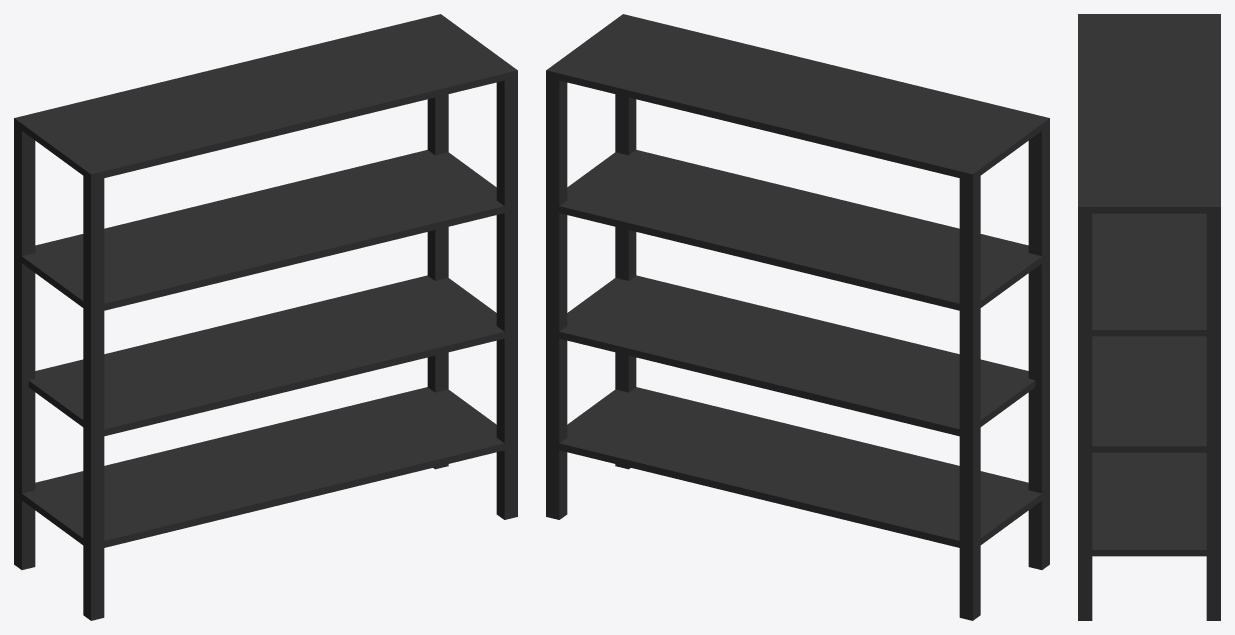
File: Shelves.fbx
3 views of the same model, side by side, from view 1: azimuth 30°, elevation 25°; view 2: azimuth 150°, elevation 25°; view 3: azimuth 270°, elevation 25° (orthographic). The views are drawn at different scales.
Visible parts, largest first — view 1: Matrix; view 2: Matrix; view 3: Matrix.
Part boxes in pixels (box(x1,y1,x2,y2)): Matrix: box(14, 14, 517, 620); Matrix: box(546, 14, 1049, 620); Matrix: box(1078, 14, 1220, 620).
Bounding box in the file's own units: 64 × 64 × 20.
Materials: 1 (1 with a texture image).
